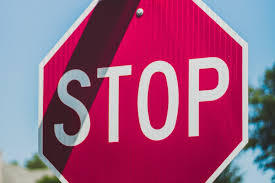stop sign: (37, 1, 247, 183)
